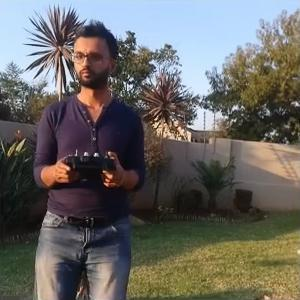follow: (30, 16, 150, 299)
